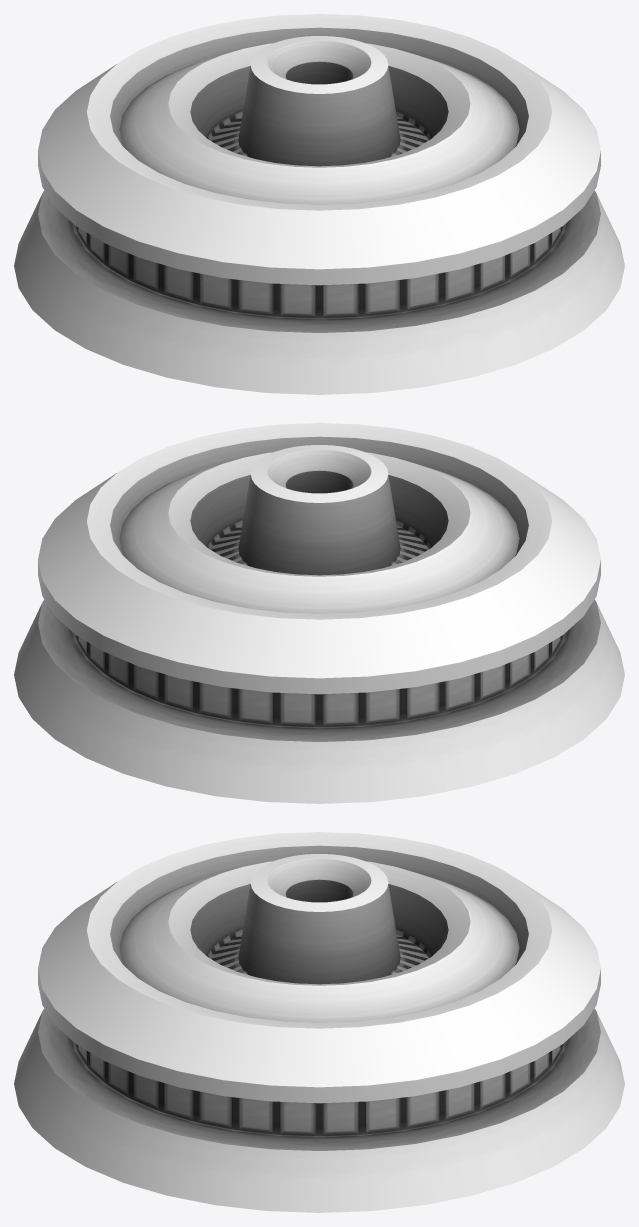
File: centralProjector_Low.fbx
3 renders of one model, top to bottom at view 1: azimuth 30°, elevation 25°; view 2: azimuth 150°, elevation 25°; view 3: azimuth 270°, elevation 25°, orthographic.
Visible parts, largest first — view 1: Center_Projector_Low; view 2: Center_Projector_Low; view 3: Center_Projector_Low.
Boxes of the visible parts, x1,y1,x2,y2 form: Center_Projector_Low: (14,14,624,394); Center_Projector_Low: (14,423,624,803); Center_Projector_Low: (14,832,624,1212).
Size of the model in its own units: 63.46 by 23.3 by 63.46.
1 material, 1 textured.
